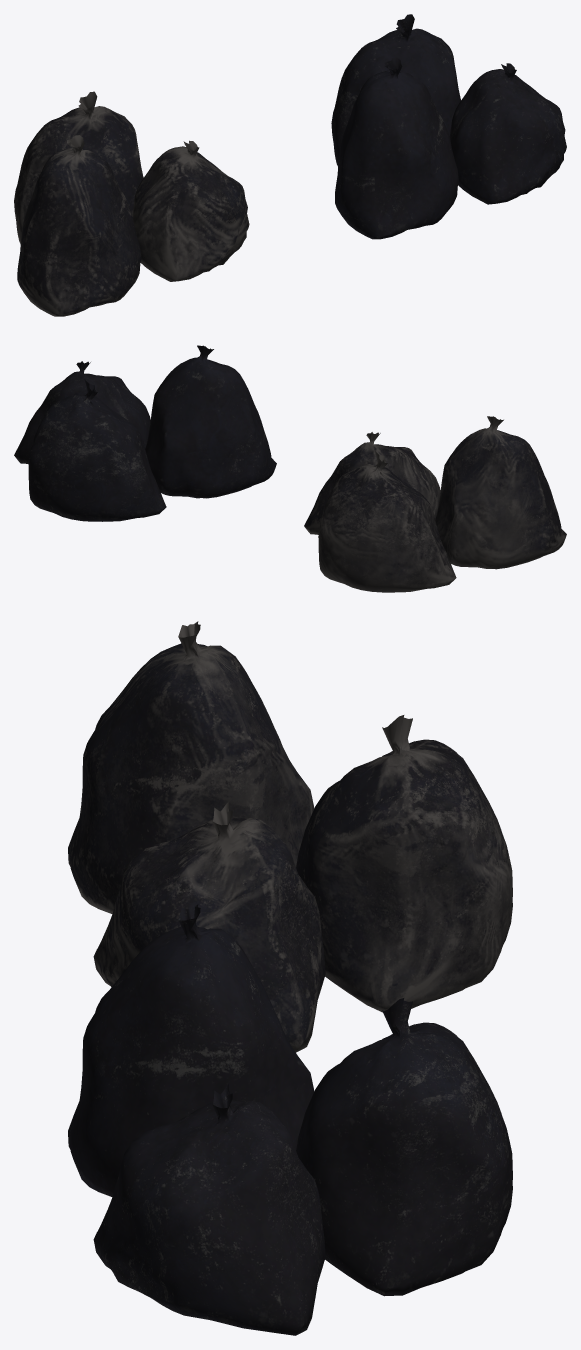
File: plastic_garbage_bags.glb
3 renders of one model, top to bottom at view 1: azimuth 30°, elevation 25°; view 2: azimuth 150°, elevation 25°; view 3: azimuth 270°, elevation 25°, orthographic. The views are drawn at different scales.
Parts seen in each view (by area): view 1: Plastic_Bag_03_Plastic_Bag_0, Plastic_Bag_Dirt_03_Plastic_Bag_Dirt_0, Plastic_Bag_Dirt_01_Plastic_Bag_Dirt_0, Plastic_Bag_01_Plastic_Bag_0, Plastic_Bag_Dirt_02_Plastic_Bag_Dirt_0, Plastic_Bag_02_Plastic_Bag_0; view 2: Plastic_Bag_03_Plastic_Bag_0, Plastic_Bag_Dirt_03_Plastic_Bag_Dirt_0, Plastic_Bag_Dirt_02_Plastic_Bag_Dirt_0, Plastic_Bag_02_Plastic_Bag_0, Plastic_Bag_01_Plastic_Bag_0, Plastic_Bag_Dirt_01_Plastic_Bag_Dirt_0; view 3: Plastic_Bag_02_Plastic_Bag_0, Plastic_Bag_Dirt_02_Plastic_Bag_Dirt_0, Plastic_Bag_01_Plastic_Bag_0, Plastic_Bag_03_Plastic_Bag_0, Plastic_Bag_Dirt_03_Plastic_Bag_Dirt_0, Plastic_Bag_Dirt_01_Plastic_Bag_Dirt_0.
Boxes of the visible parts, x1,y1,x2,y2 form: Plastic_Bag_03_Plastic_Bag_0: (335, 57, 458, 239); Plastic_Bag_Dirt_03_Plastic_Bag_Dirt_0: (17, 135, 141, 316); Plastic_Bag_Dirt_01_Plastic_Bag_Dirt_0: (132, 140, 249, 281); Plastic_Bag_01_Plastic_Bag_0: (449, 63, 566, 204); Plastic_Bag_Dirt_02_Plastic_Bag_Dirt_0: (14, 91, 143, 243); Plastic_Bag_02_Plastic_Bag_0: (331, 14, 460, 166); Plastic_Bag_03_Plastic_Bag_0: (145, 345, 276, 498); Plastic_Bag_Dirt_03_Plastic_Bag_Dirt_0: (435, 416, 566, 569); Plastic_Bag_Dirt_02_Plastic_Bag_Dirt_0: (318, 450, 456, 592); Plastic_Bag_02_Plastic_Bag_0: (28, 379, 166, 521); Plastic_Bag_01_Plastic_Bag_0: (14, 361, 150, 464); Plastic_Bag_Dirt_01_Plastic_Bag_Dirt_0: (304, 432, 440, 534); Plastic_Bag_02_Plastic_Bag_0: (296, 998, 512, 1296); Plastic_Bag_Dirt_02_Plastic_Bag_Dirt_0: (296, 715, 512, 1012); Plastic_Bag_01_Plastic_Bag_0: (93, 1084, 325, 1335); Plastic_Bag_03_Plastic_Bag_0: (68, 904, 314, 1197); Plastic_Bag_Dirt_03_Plastic_Bag_Dirt_0: (68, 621, 314, 914); Plastic_Bag_Dirt_01_Plastic_Bag_Dirt_0: (93, 801, 325, 1052).
Bounding box in the file's own units: 1.75 × 0.4584 × 0.665.
2 materials, 2 textured.
